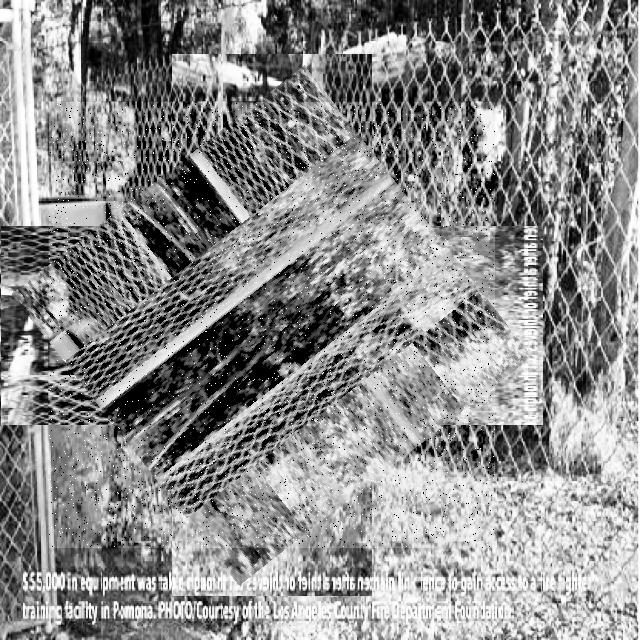anomaly-fence: (49, 102, 495, 548)
